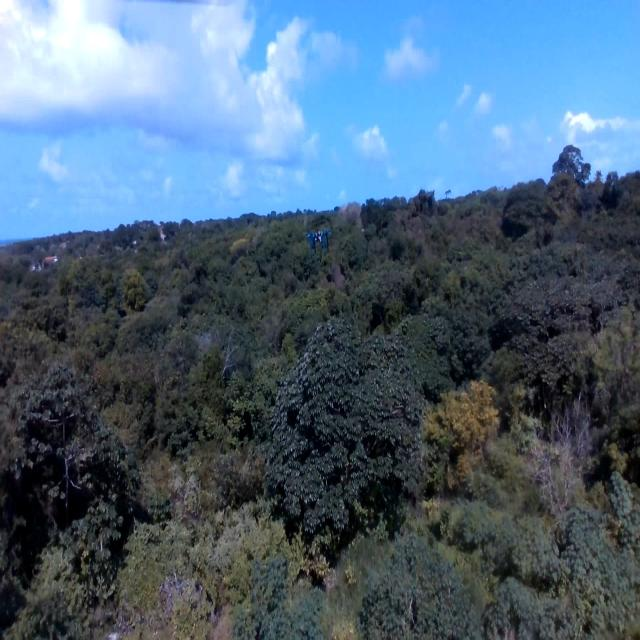-uav-: (300, 220, 339, 270)
